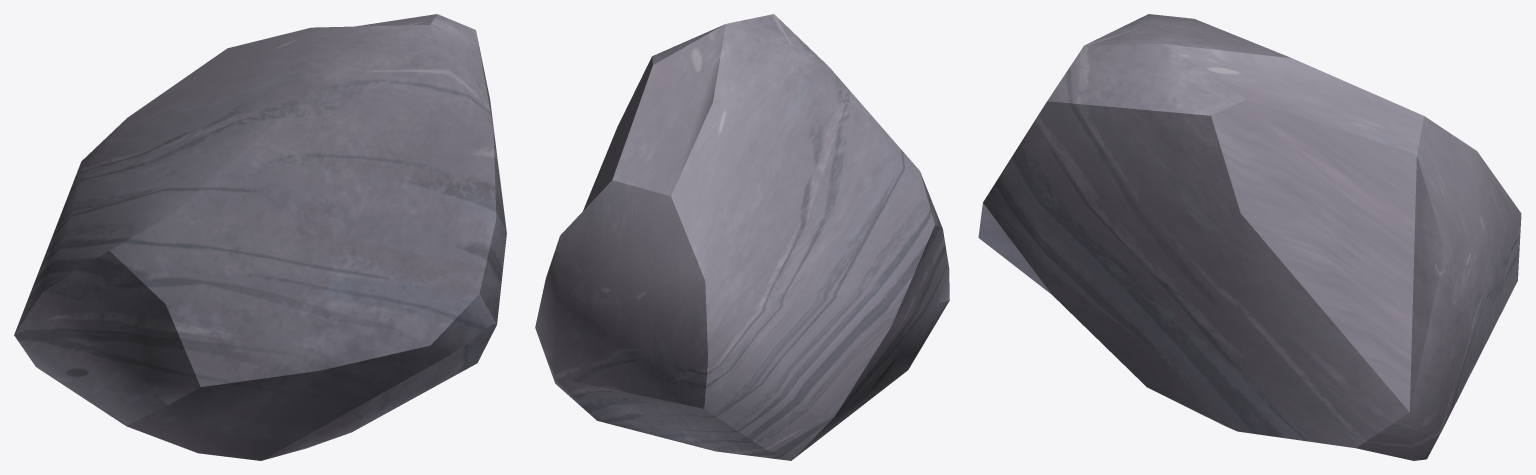
Rendered from rock_1_006.fbx.
3 renders of one model, left to right at view 1: azimuth 30°, elevation 25°; view 2: azimuth 150°, elevation 25°; view 3: azimuth 270°, elevation 25°, orthographic. The views are drawn at different scales.
Visible parts, largest first — view 1: rock 1.006; view 2: rock 1.006; view 3: rock 1.006.
Boxes of the visible parts, box(x1,y1,x2,y2) form: rock 1.006: box(14, 14, 506, 460); rock 1.006: box(535, 14, 949, 460); rock 1.006: box(978, 14, 1521, 460).
Size of the model in its own units: 2697 by 2635 by 3148.
